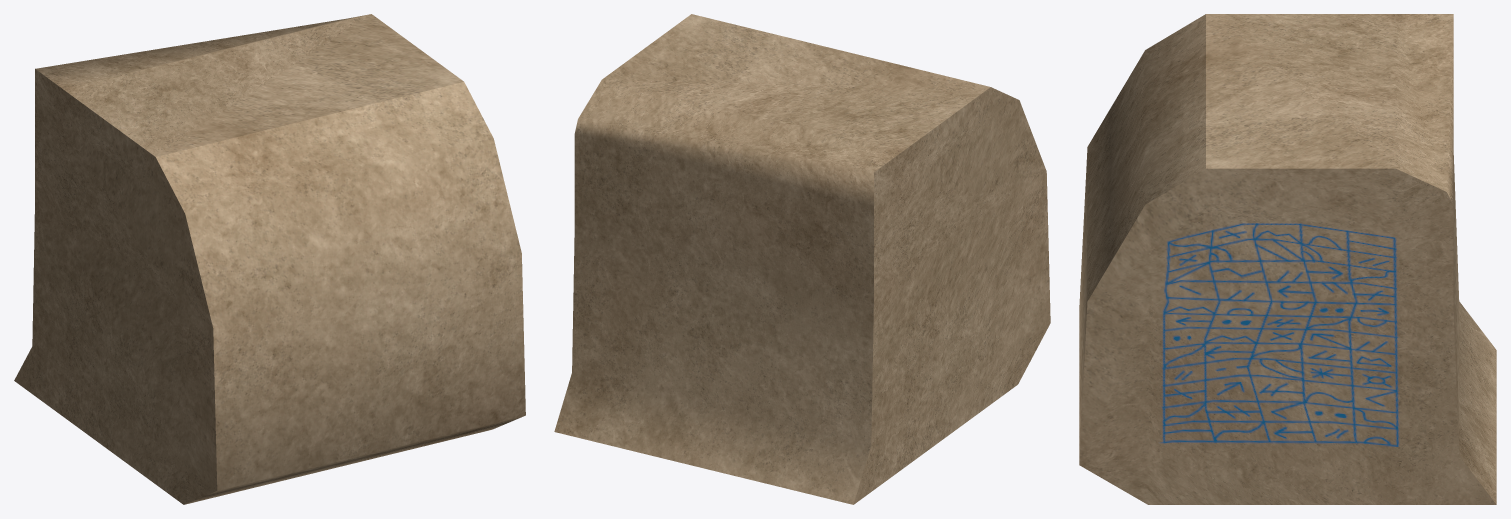
The model's file is Rock_writings.fbx.
3 views of the same model, side by side, from view 1: azimuth 30°, elevation 25°; view 2: azimuth 150°, elevation 25°; view 3: azimuth 270°, elevation 25° (orthographic). The views are drawn at different scales.
Visible parts, largest first — view 1: pCube2; view 2: pCube2; view 3: pCube2.
Part boxes in pixels (x1,y1,x2,y2): pCube2: [14, 14, 525, 504]; pCube2: [554, 14, 1050, 504]; pCube2: [1079, 14, 1496, 504].
Bounding box in the file's own units: 1.69 × 1.72 × 1.93.
Materials: 1 (1 with a texture image).
